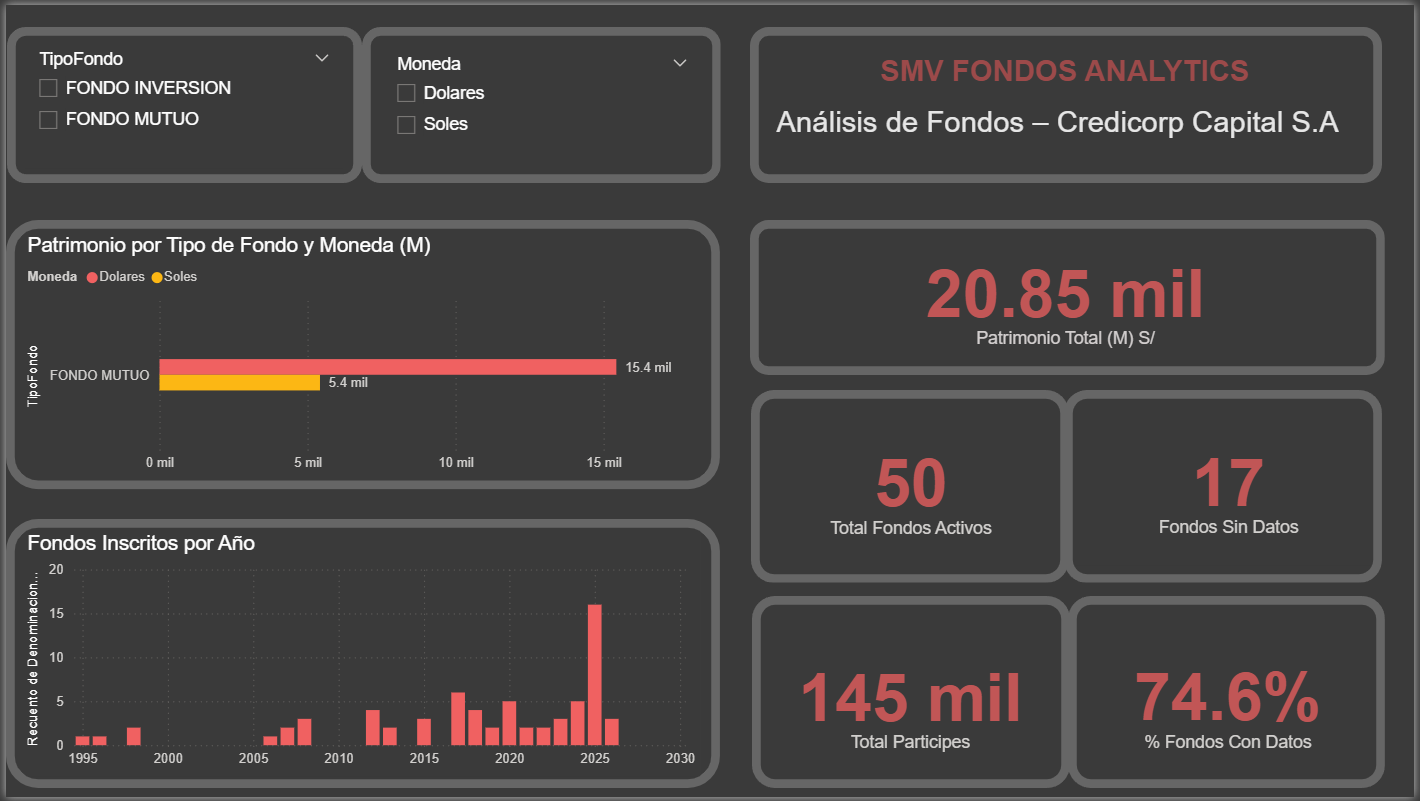

The page's visual inventory and layout, read from the dashboard file:
{"tool":"powerbi","page":{"name":"RESUMEN GENERAL","canvas":[1280,720],"ordinal":0},"visuals":[{"type":"card","fields":{"Values":["_Medidas.Total Fondos Activos"]},"box":[678.6,358.3,289.1,159.6],"z":0},{"type":"card","fields":{"Values":["_Medidas.Patrimonio Total (M)"]},"box":[750,189.1,426.4,153.6],"z":1000},{"type":"card","fields":{"Values":["_Medidas.Total Participes"]},"box":[691.9,553.4,260.7,158.7],"z":2000},{"type":"card","fields":{"Values":["_Medidas.% Fondos Con Datos"]},"box":[981,548.9,259.8,167.6],"z":3000},{"type":"clusteredBarChart","title":"Patrimonio por Tipo de Fondo y Moneda (M)","fields":{"Y":["_Medidas.Patrimonio Total (M)"],"Category":["vista_ultimo_snapshot_V2.TipoFondo"],"Series":["vista_ultimo_snapshot_V2.Moneda"]},"box":[14.2,207.4,626,224.3],"z":4000},{"type":"clusteredColumnChart","title":"Fondos Inscritos por Año","fields":{"Category":["vista_ultimo_snapshot_V2.FechaInscripcion.Variación.Jerarquía de fechas.Año"],"Y":["CountNonNull(vista_ultimo_snapshot_V2.DenominacionFondo)"]},"box":[14.5,478.2,617.3,222.7],"z":5000},{"type":"slicer","fields":{"Values":["vista_ultimo_snapshot_V2.TipoFondo"]},"box":[17.3,35.5,289.1,112.6],"z":6000},{"type":"slicer","fields":{"Values":["vista_ultimo_snapshot_V2.Moneda"]},"box":[342.7,39.9,289.1,102],"z":7000},{"type":"card","fields":{"Values":["_Medidas.Fondos Sin Datos"]},"box":[971.2,366.3,281.1,142.8],"z":8000},{"type":"shape","box":[677.3,350,289.1,175.5],"z":9000},{"type":"shape","box":[961.8,350,289.1,175.5],"z":10000},{"type":"shape","box":[678.2,537.3,289.1,174.5],"z":11000},{"type":"shape","box":[965.5,537.3,288.2,174.5],"z":12000},{"type":"shape","box":[0,195,649.1,244.7],"z":13000},{"type":"shape","box":[0,467.3,649.1,244.5],"z":14000},{"type":"shape","box":[676.4,195.5,577.3,140.9],"z":15000},{"type":"shape","box":[323.2,20.4,326.3,141.9],"z":16000},{"type":"shape","box":[0.5,20.4,322.8,141.9],"z":17000},{"type":"shape","box":[676.4,20,574.5,141.8],"z":18000},{"type":"textbox","box":[684.5,40,556.4,101.8],"z":19000}]}

Visuals, with their boxes in screenshot pixels (x1, y1, x2, y2), scaled from the page's 1280x720 canvas onto the 1420x801 screenshot:
card - _Medidas.Total Fondos Activos: x1=753, y1=399, x2=1074, y2=576
card - _Medidas.Patrimonio Total (M): x1=832, y1=210, x2=1305, y2=381
card - _Medidas.Total Participes: x1=768, y1=616, x2=1057, y2=792
card - _Medidas.% Fondos Con Datos: x1=1088, y1=611, x2=1377, y2=797
"Patrimonio por Tipo de Fondo y Moneda (M)" clusteredBarChart: x1=16, y1=231, x2=710, y2=480
"Fondos Inscritos por Año" clusteredColumnChart: x1=16, y1=532, x2=701, y2=780
slicer - vista_ultimo_snapshot_V2.TipoFondo: x1=19, y1=39, x2=340, y2=165
slicer - vista_ultimo_snapshot_V2.Moneda: x1=380, y1=44, x2=701, y2=158
card - _Medidas.Fondos Sin Datos: x1=1077, y1=408, x2=1389, y2=566
shape: x1=751, y1=389, x2=1072, y2=585
shape: x1=1067, y1=389, x2=1388, y2=585
shape: x1=752, y1=598, x2=1073, y2=792
shape: x1=1071, y1=598, x2=1391, y2=792
shape: x1=0, y1=217, x2=720, y2=489
shape: x1=0, y1=520, x2=720, y2=792
shape: x1=750, y1=217, x2=1391, y2=374
shape: x1=359, y1=23, x2=721, y2=181
shape: x1=1, y1=23, x2=359, y2=181
shape: x1=750, y1=22, x2=1388, y2=180
textbox: x1=759, y1=44, x2=1377, y2=158
